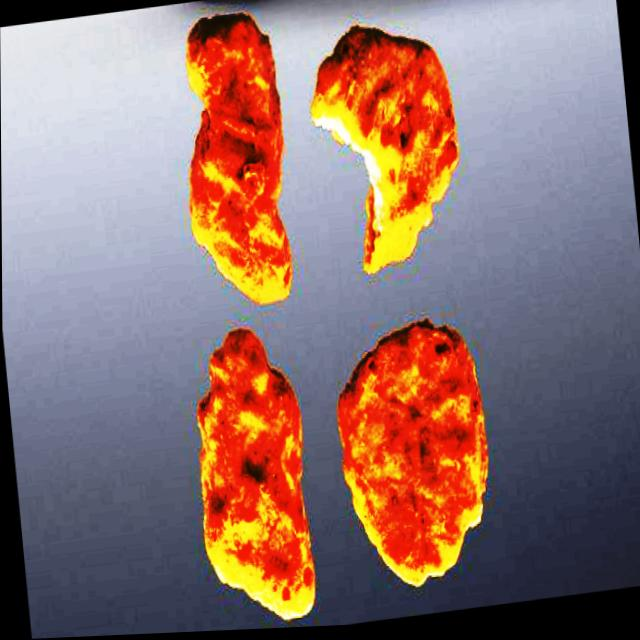chicken_nuggets: (329, 303, 508, 620), (299, 0, 488, 300), (172, 299, 333, 632), (159, 2, 311, 329)
